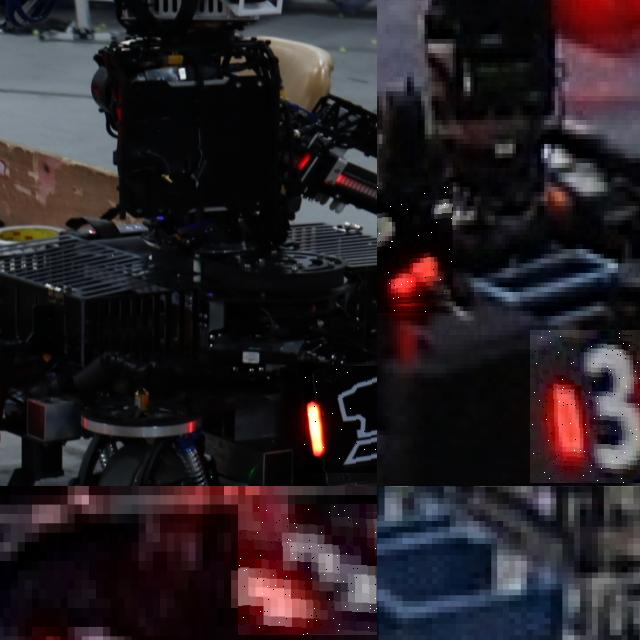R3: (238, 504, 377, 636), (530, 330, 640, 483), (377, 184, 453, 313), (17, 598, 167, 640)
Rs: (304, 366, 377, 472)
